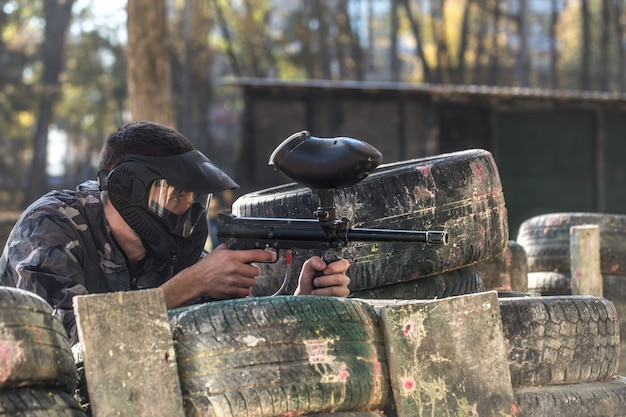gun: (214, 127, 451, 297)
